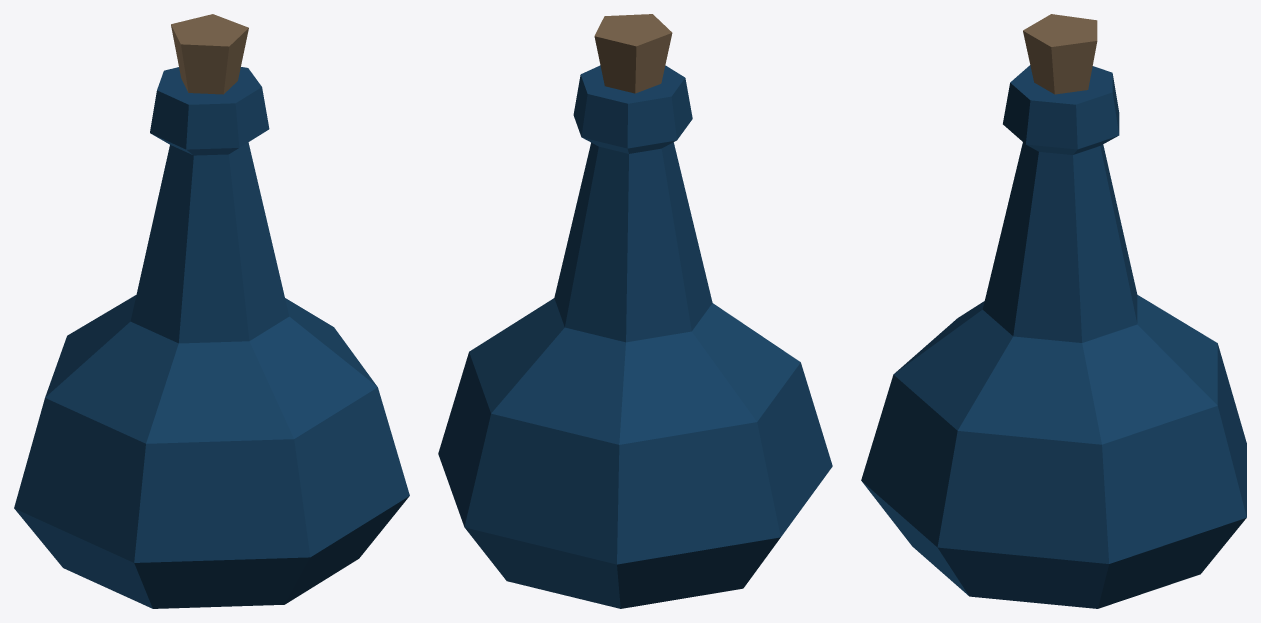
The model's file is Bottle5.fbx.
The picture shows the model from 3 angles, left to right: view 1: azimuth 30°, elevation 25°; view 2: azimuth 150°, elevation 25°; view 3: azimuth 270°, elevation 25°; orthographic projection.
Parts seen in each view (by area): view 1: Bottle5; view 2: Bottle5; view 3: Bottle5.
Part boxes in pixels (<box>): Bottle5: <box>14,14,409,608</box>; Bottle5: <box>438,14,832,608</box>; Bottle5: <box>861,14,1246,608</box>.
Size of the model in its own units: 0.3655 by 0.3563 by 0.5258.
